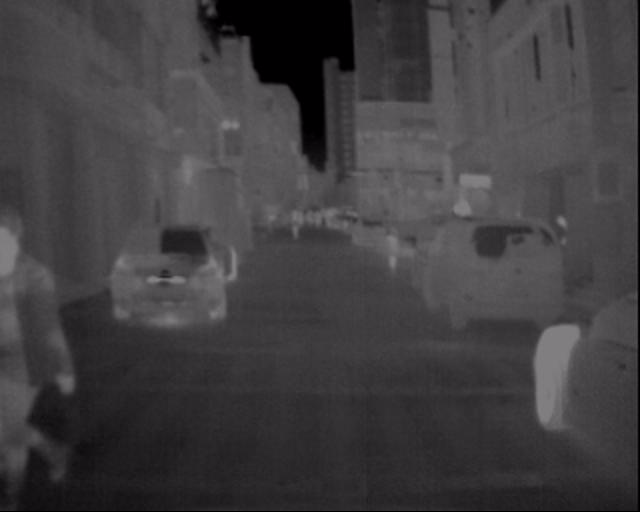person: (0, 199, 82, 512), (378, 219, 407, 286), (287, 211, 307, 252)
